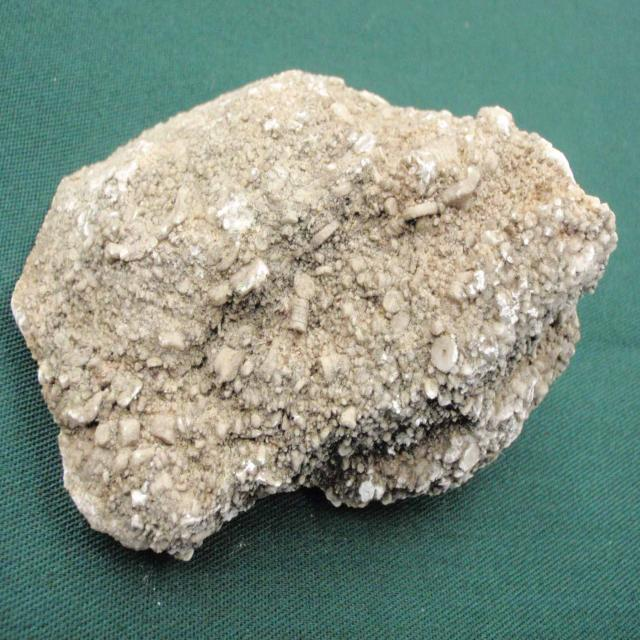Sedimentary: (8, 65, 617, 559)
